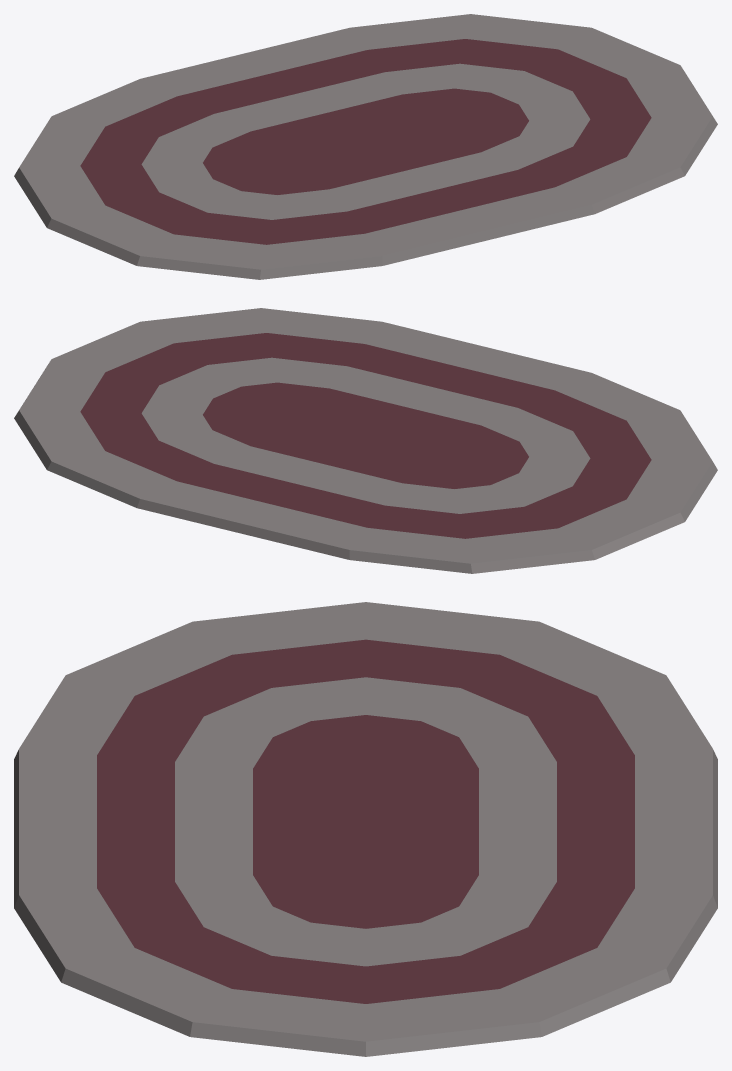
Rendered from furniture-rug-rounded.glb.
3 views of the same model, one above another, from view 1: azimuth 30°, elevation 25°; view 2: azimuth 150°, elevation 25°; view 3: azimuth 270°, elevation 25° (orthographic). The views are drawn at different scales.
Visible parts, largest first — view 1: rug-rounded; view 2: rug-rounded; view 3: rug-rounded.
Boxes of the visible parts, left/top/right/bottom form: rug-rounded: left=14, top=14, right=717, bottom=279; rug-rounded: left=14, top=308, right=717, bottom=573; rug-rounded: left=14, top=602, right=717, bottom=1056.
Bounding box in the file's own units: 2.4 × 0.03 × 1.6.
